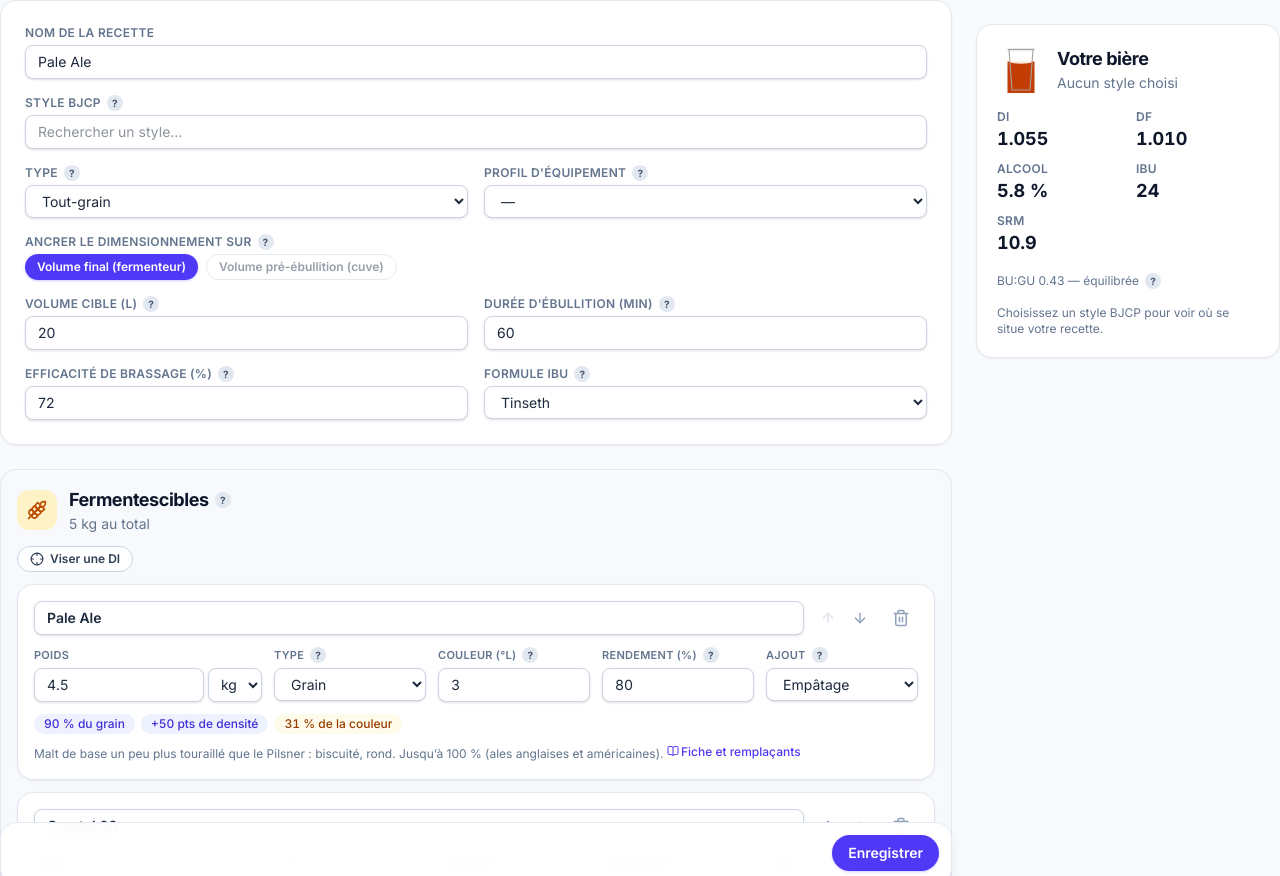
Scenario: RecipeForm › ajuste le grain pour viser une DI, en gardant les proportions
Click the button "Viser une DI". click: (75, 559)
box: [17,546,133,572]
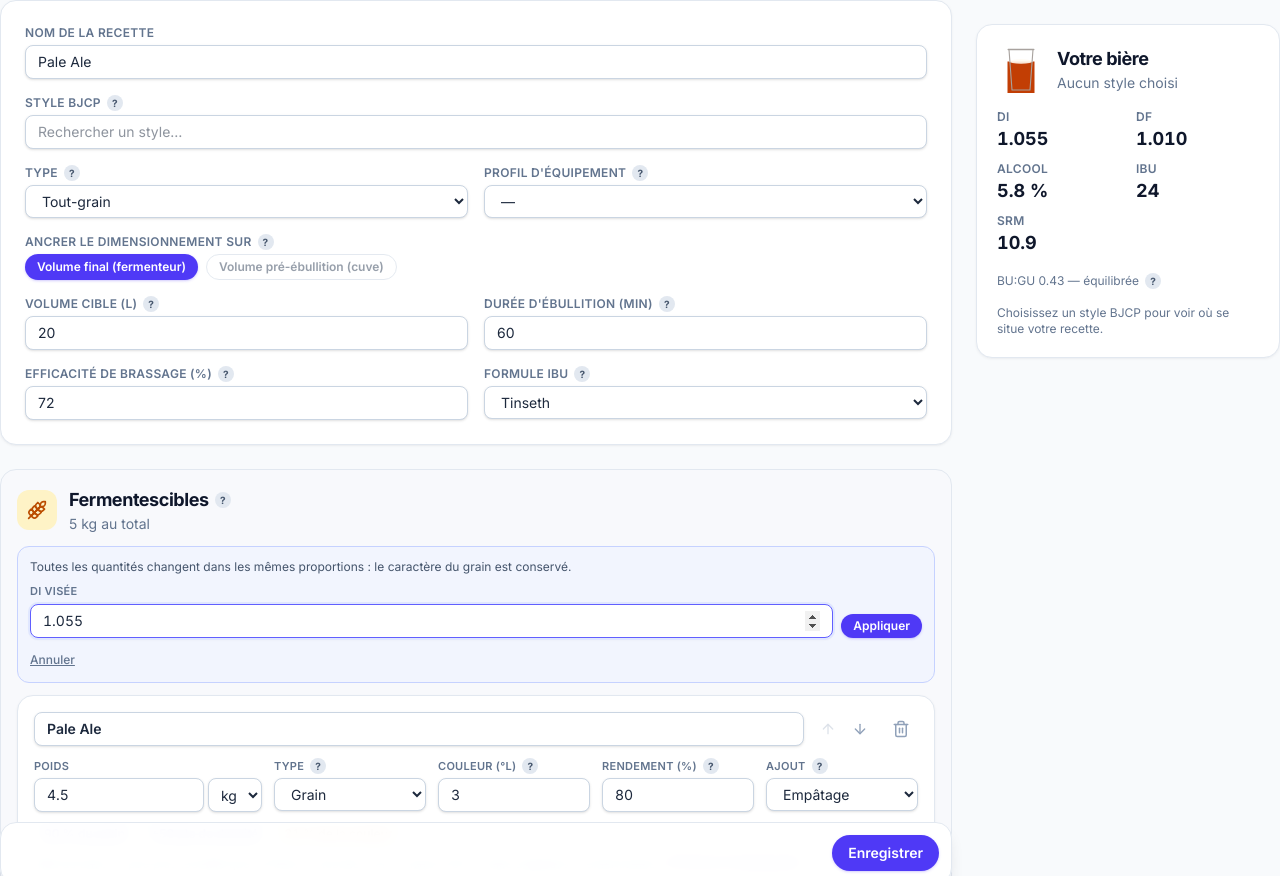
Replace the text in the number field labelled "DI visée" with "1.060". click: (432, 620)
box: [30,604,833,638]
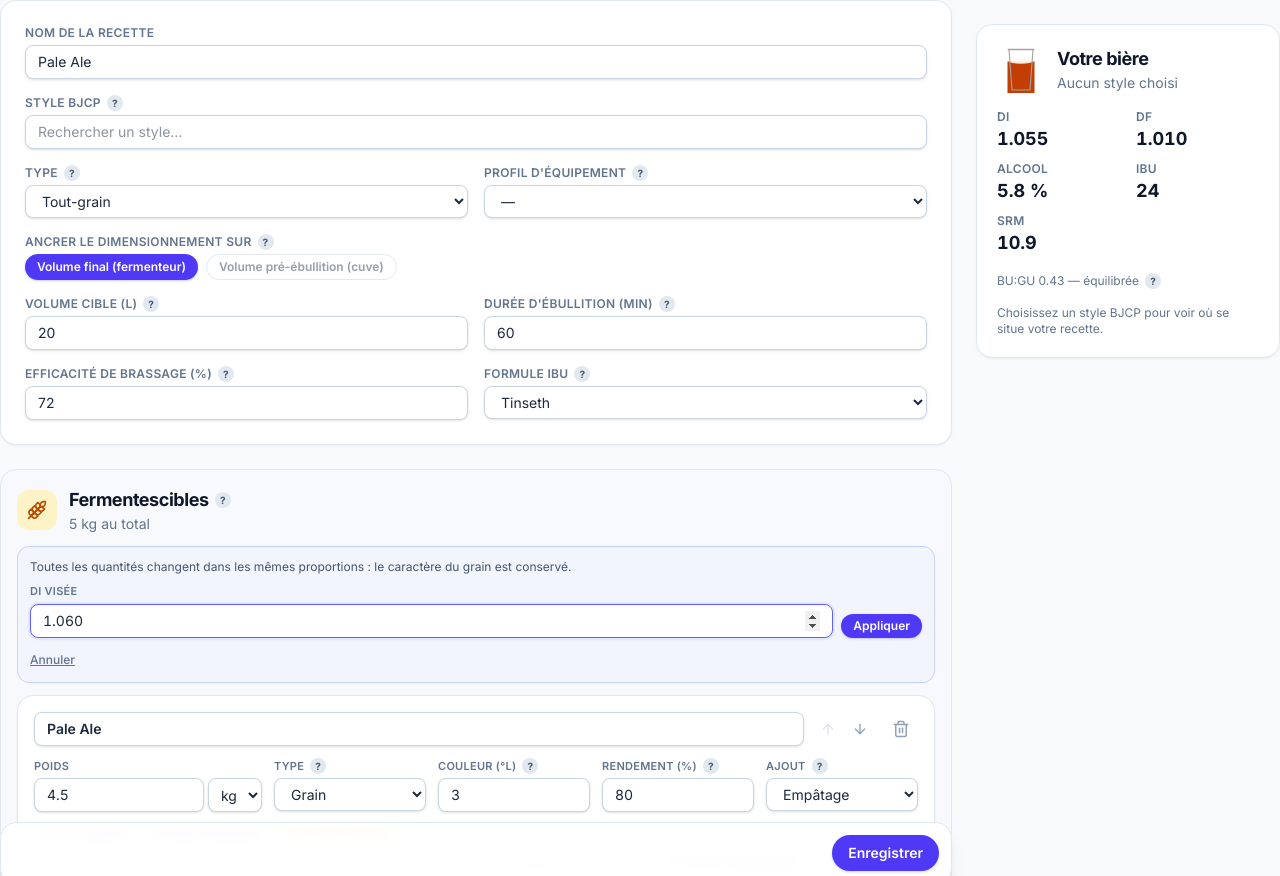
Click the button "Appliquer". click: (882, 626)
box: [841,614,922,638]
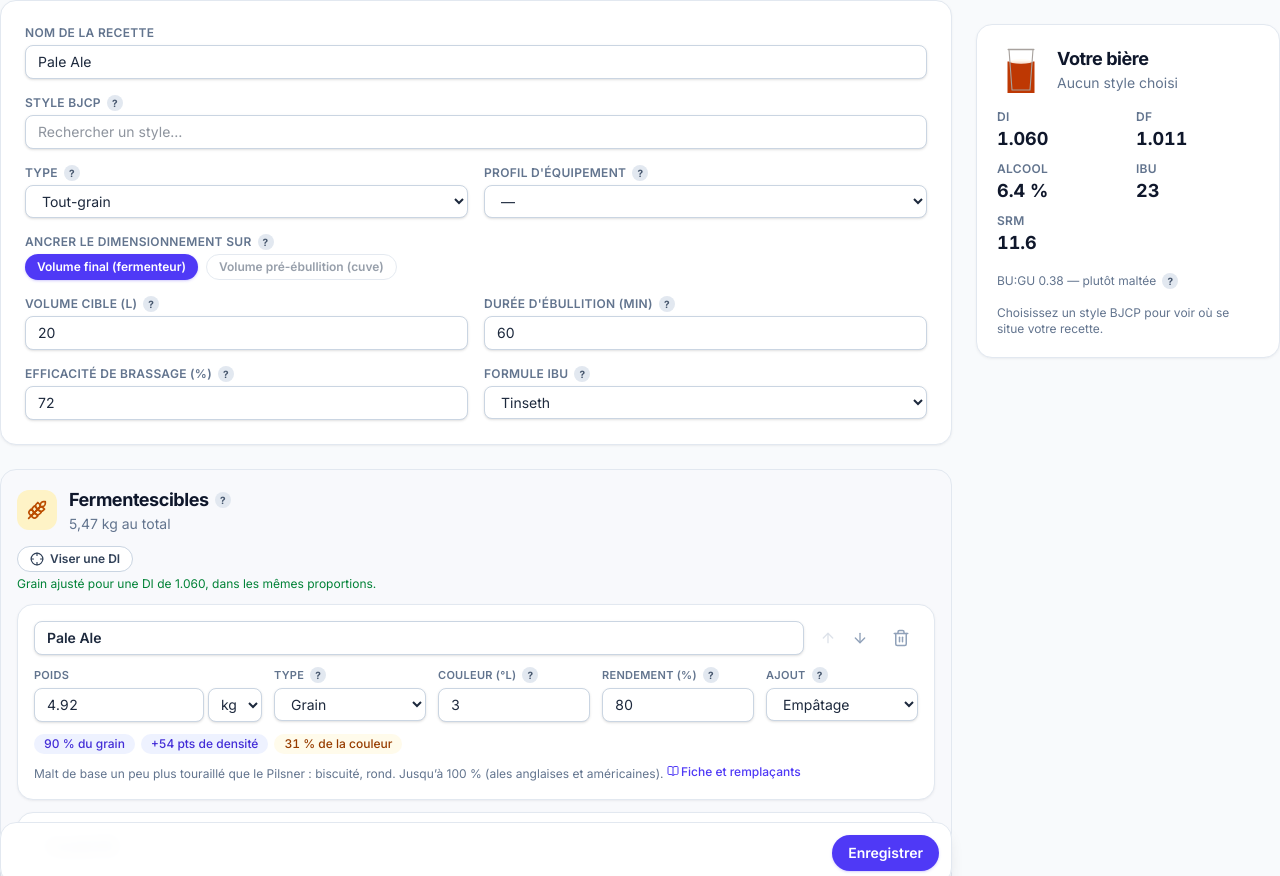
Check: the field showing "4.5" is not shown
Check: the text "Grain ajusté pour une DI de 1.060" is shown, box [17,576,376,591]
